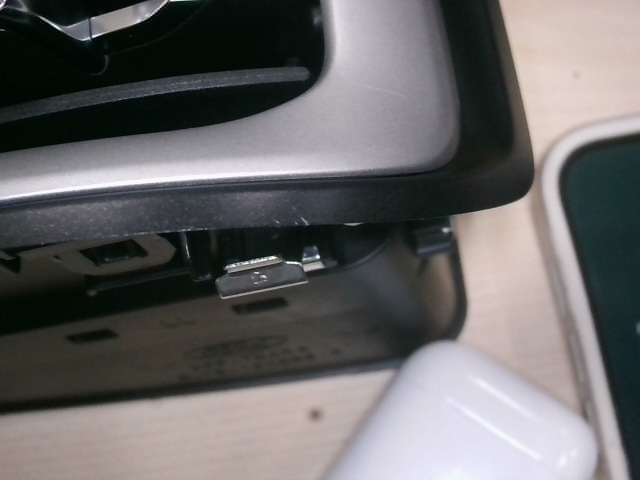NG: (351, 78, 413, 106), (273, 202, 318, 232)
